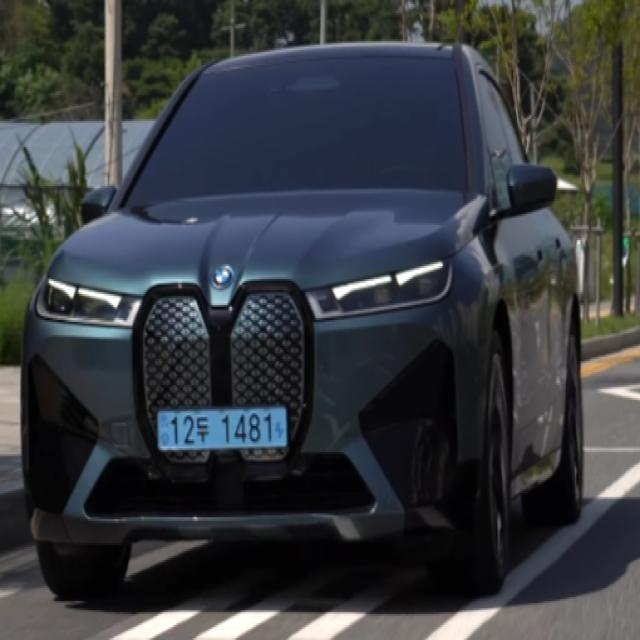car: (141, 400, 310, 472)
carev: (152, 407, 172, 459), (273, 403, 289, 457)
